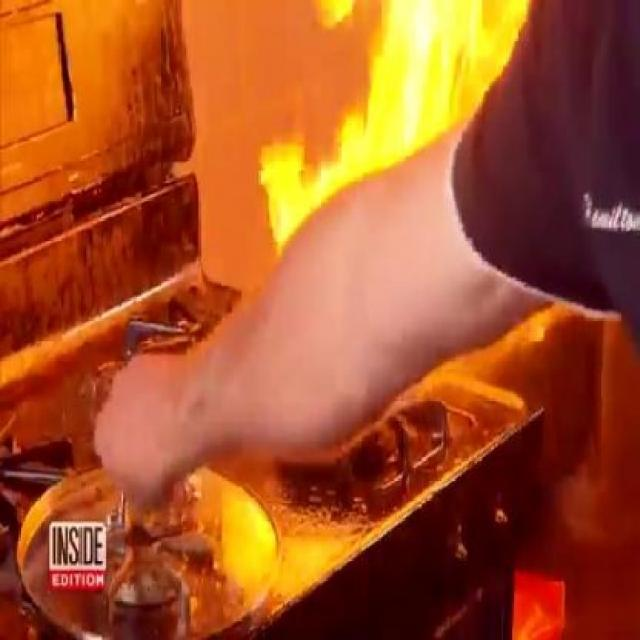fire: (326, 5, 446, 140), (248, 119, 298, 228)
